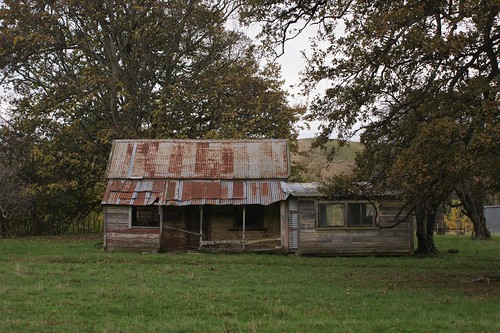low: (100, 136, 418, 258)
